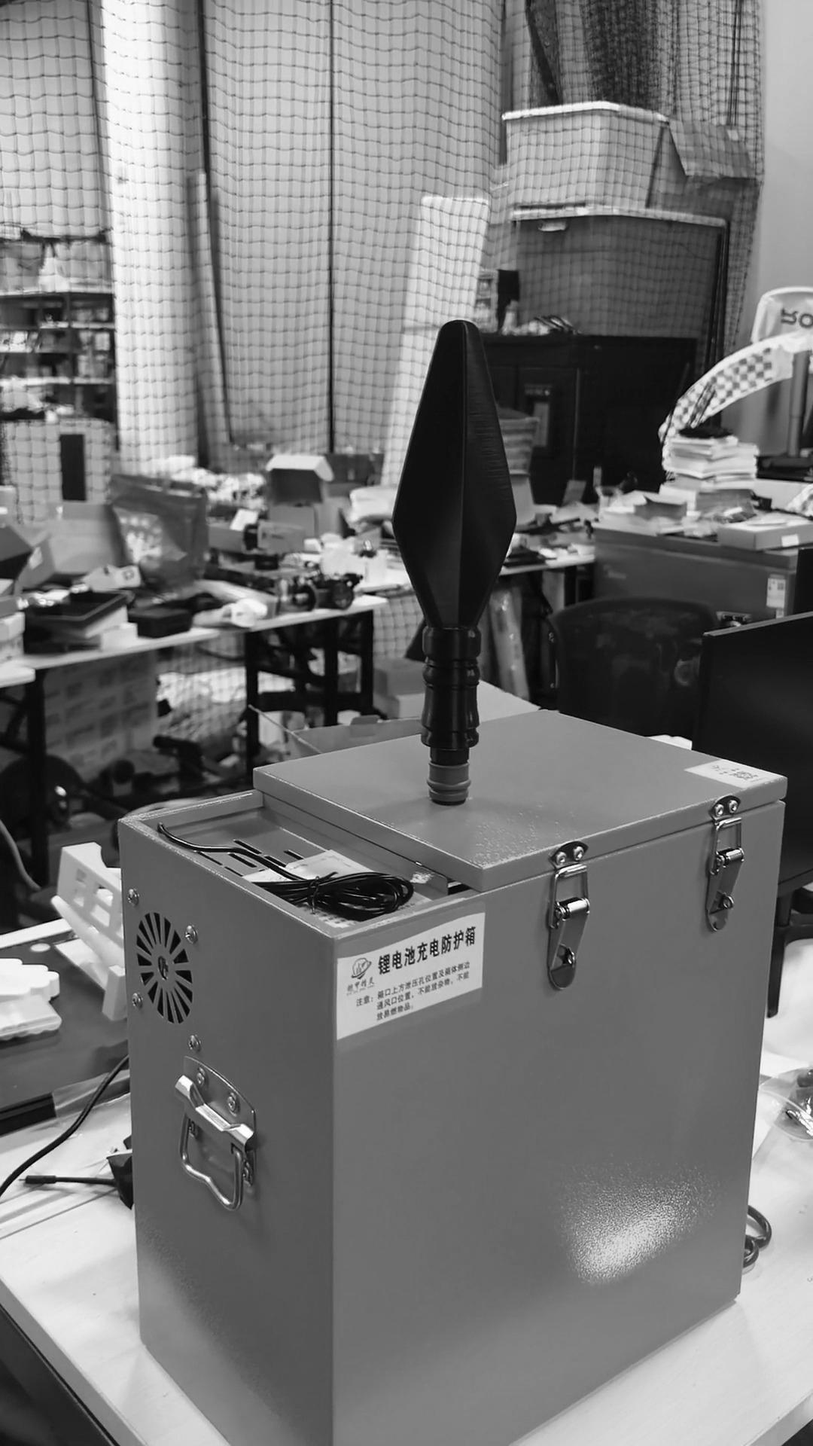base: (427, 752, 473, 804)
